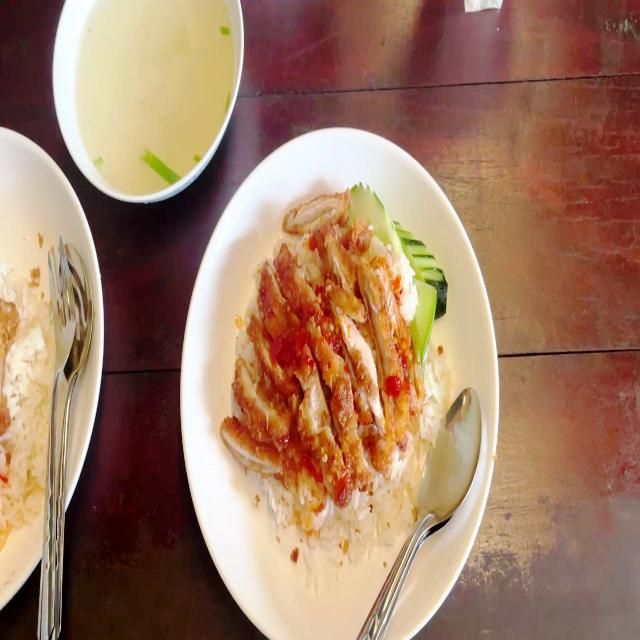chicken_rice: (223, 182, 450, 567), (0, 254, 62, 540)
cucumber: (348, 181, 454, 368)
fried_chicken: (224, 198, 422, 513), (0, 291, 19, 485)
